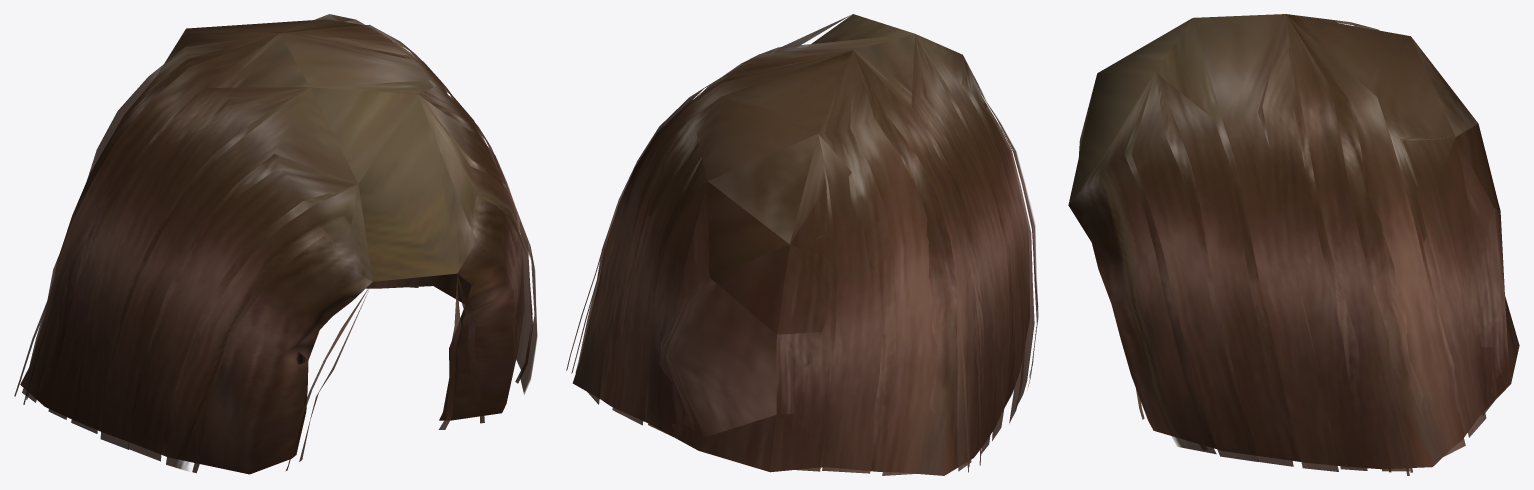
The model's file is short.glb.
3 views of the same model, side by side, from view 1: azimuth 30°, elevation 25°; view 2: azimuth 150°, elevation 25°; view 3: azimuth 270°, elevation 25° (orthographic). The views are drawn at different scales.
Parts seen in each view (by area): view 1: hair_short; view 2: hair_short; view 3: hair_short.
Boxes of the visible parts, x1=… form: hair_short: x1=14, y1=14, x2=537, y2=474; hair_short: x1=566, y1=14, x2=1038, y2=475; hair_short: x1=1068, y1=14, x2=1519, y2=475.
Bounding box in the file's own units: 0.2726 × 0.2128 × 0.2512.
1 material, 1 textured.
